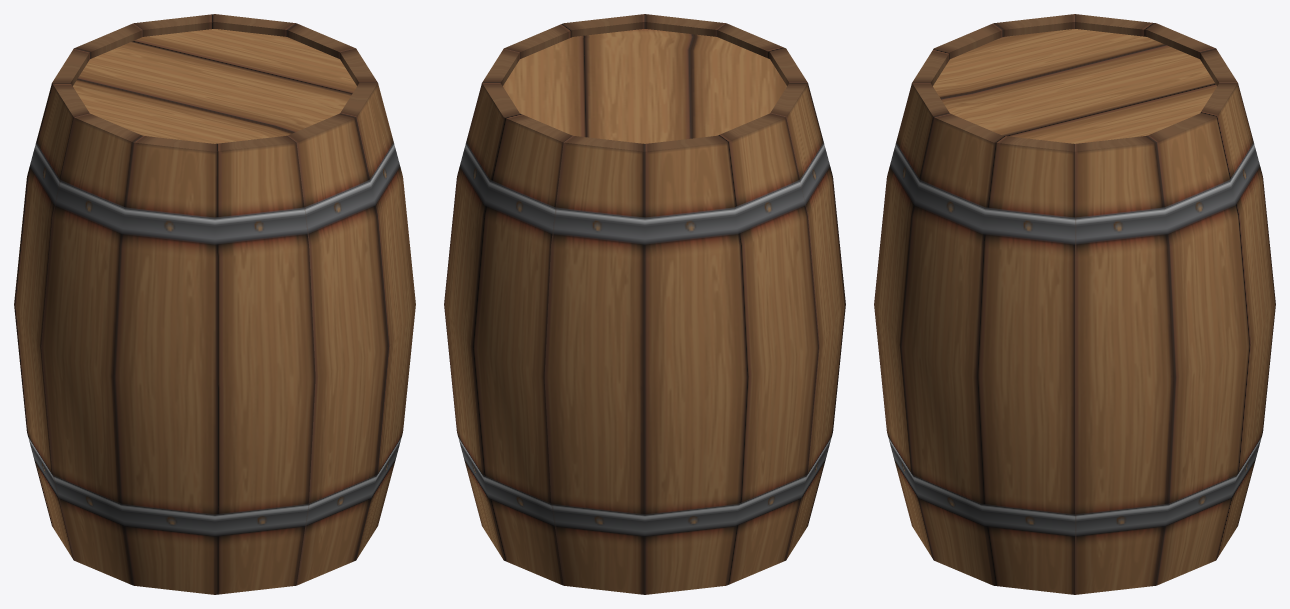
Rendered from Barrel_01.FBX.
3 views of the same model, side by side, from view 1: azimuth 30°, elevation 25°; view 2: azimuth 150°, elevation 25°; view 3: azimuth 270°, elevation 25° (orthographic).
Parts seen in each view (by area): view 1: Barrel_01; view 2: Barrel_01; view 3: Barrel_01.
Part boxes in pixels (x1,y1,x2,y2): Barrel_01: (14,14,415,594); Barrel_01: (444,14,845,594); Barrel_01: (874,14,1275,594).
Bounding box in the file's own units: 0.8666 × 1.05 × 0.8666.
